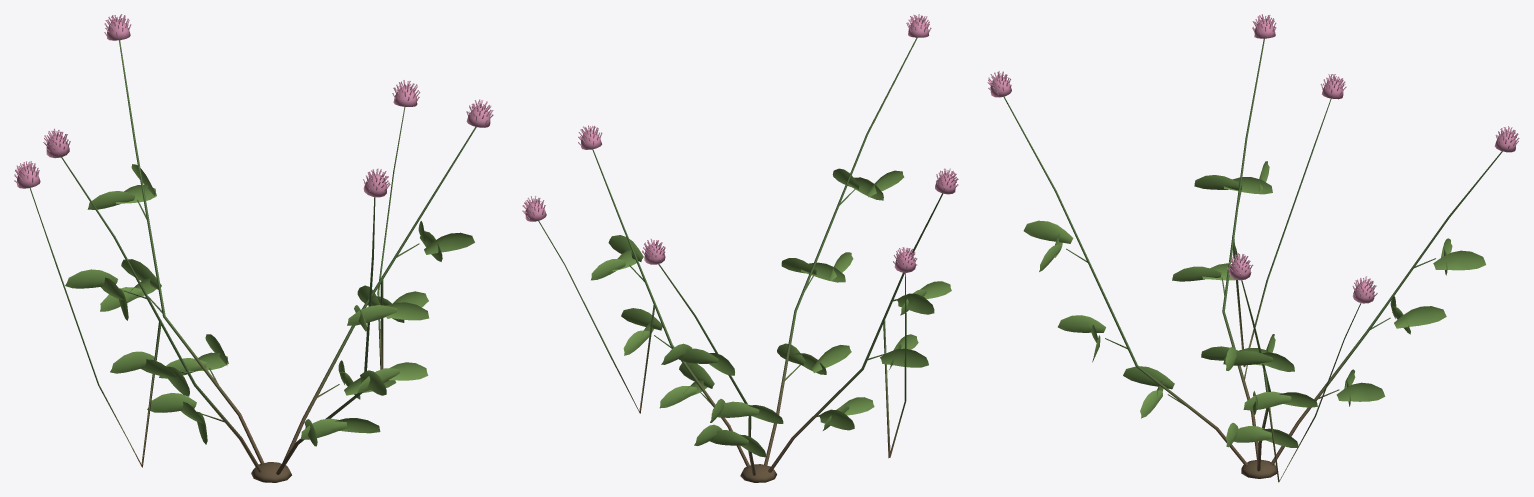
The model's file is RedClover_lod1.glb.
3 renders of one model, left to right at view 1: azimuth 30°, elevation 25°; view 2: azimuth 150°, elevation 25°; view 3: azimuth 270°, elevation 25°, orthographic. The views are drawn at different scales.
Visible parts, largest first — view 1: Plant_LOD1; view 2: Plant_LOD1; view 3: Plant_LOD1.
Boxes of the visible parts, box(x1,y1,x2,y2) form: Plant_LOD1: box(14, 14, 493, 482); Plant_LOD1: box(522, 14, 958, 482); Plant_LOD1: box(987, 14, 1519, 482).
Size of the model in its own units: 0.3855 by 0.3554 by 0.4471.
